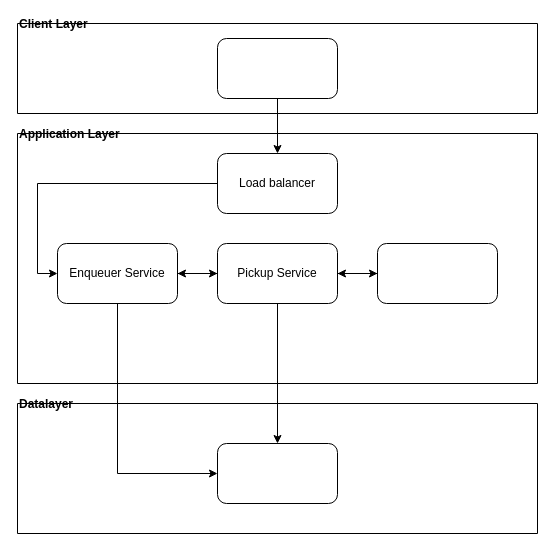
Some shapes in this 555 by 551 pixel diagram are drawn without their labels. Each missing label, with the centre of its shape:
Database: the point at 277,473
Email client: the point at 277,68
Mail Service: the point at 437,273
